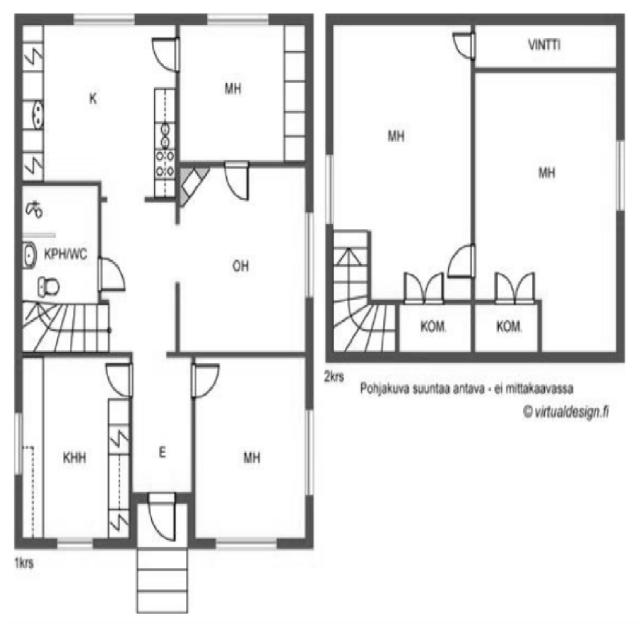door: (20, 182, 102, 356), (491, 266, 541, 306), (146, 488, 178, 548), (400, 266, 444, 306), (188, 357, 223, 400), (446, 239, 480, 283), (223, 157, 252, 207), (102, 359, 136, 400), (95, 253, 129, 294), (150, 35, 182, 75), (449, 27, 480, 62)
window: (299, 400, 320, 504), (609, 130, 631, 221), (299, 204, 318, 308), (321, 144, 341, 233), (208, 531, 284, 554), (204, 6, 274, 29), (69, 7, 140, 28), (10, 405, 26, 480), (50, 533, 100, 556)
zone: (471, 62, 624, 308), (328, 18, 476, 270), (17, 20, 177, 193), (178, 164, 312, 356), (192, 354, 312, 546), (15, 353, 133, 545), (178, 18, 311, 165), (18, 182, 102, 353), (133, 358, 194, 499), (473, 22, 622, 72), (396, 299, 476, 356), (475, 300, 541, 355)
